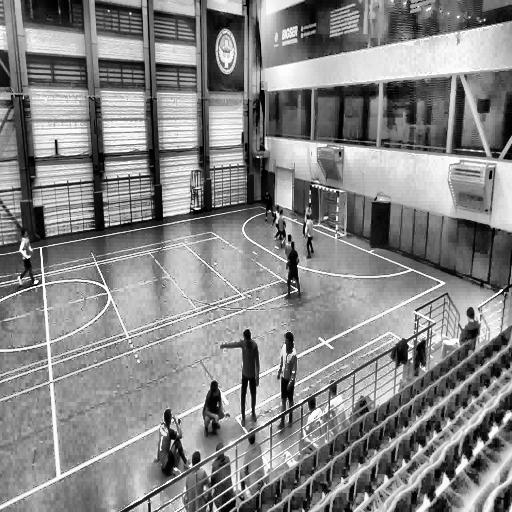ball: (322, 213, 328, 223)
player: (153, 408, 191, 476), (239, 327, 260, 428), (277, 330, 298, 430), (182, 448, 212, 512), (202, 378, 230, 438), (240, 427, 265, 494), (212, 443, 236, 512), (300, 393, 325, 453), (324, 376, 347, 436), (17, 228, 38, 286), (285, 235, 300, 299), (303, 213, 315, 258), (271, 206, 283, 243), (277, 209, 287, 251), (302, 201, 312, 237), (264, 191, 274, 223)
